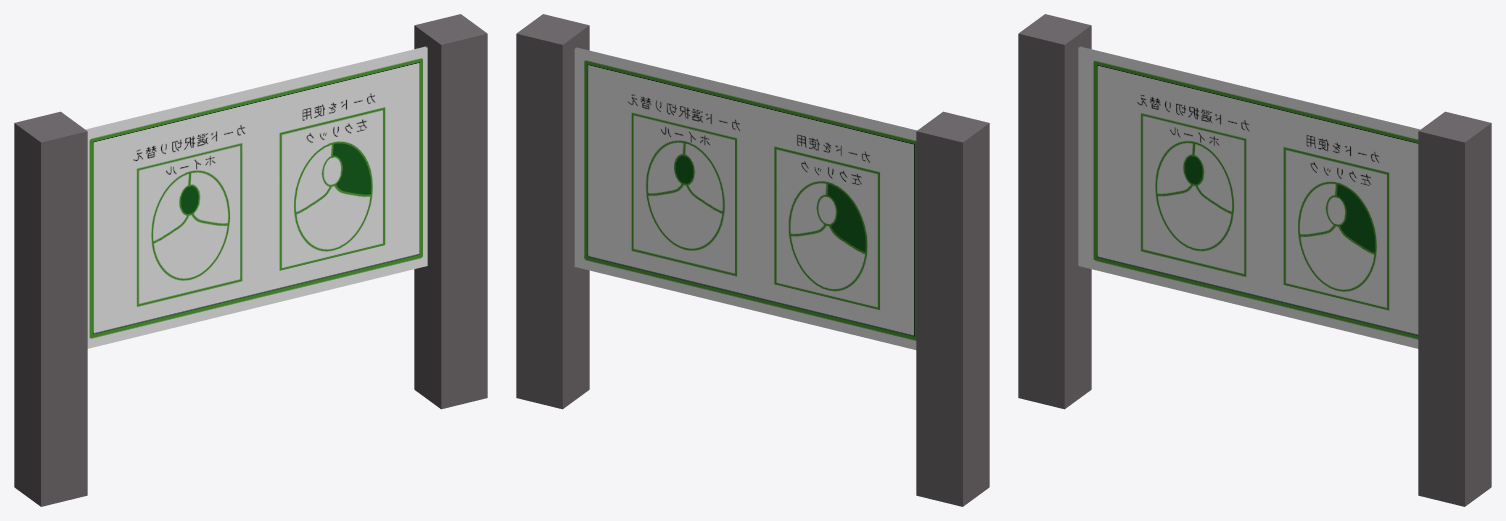
The model's file is signboard_03.obj.
3 views of the same model, side by side, from view 1: azimuth 30°, elevation 25°; view 2: azimuth 150°, elevation 25°; view 3: azimuth 330°, elevation 25° (orthographic).
Parts seen in each view (by area): view 1: signboard_03:pPlane1group1, signboard_03:group1pCube1, signboard_03:group1pCube2, signboard_03:group1pPlane2; view 2: signboard_03:group1pPlane2, signboard_03:group1pCube1, signboard_03:group1pCube2, signboard_03:pPlane1group1; view 3: signboard_03:pPlane1group1, signboard_03:group1pCube2, signboard_03:group1pCube1, signboard_03:group1pPlane2.
Part boxes in pixels (x1,y1,x2,y2): signboard_03:pPlane1group1: (87,47,427,348); signboard_03:group1pCube1: (14,111,87,506); signboard_03:group1pCube2: (414,14,487,409); signboard_03:group1pPlane2: (85,46,426,130); signboard_03:group1pPlane2: (574,48,916,349); signboard_03:group1pCube1: (916,111,989,506); signboard_03:group1pCube2: (516,14,589,409); signboard_03:pPlane1group1: (576,47,916,131); signboard_03:pPlane1group1: (1078,47,1418,348); signboard_03:group1pCube2: (1418,111,1491,506); signboard_03:group1pCube1: (1018,14,1091,409); signboard_03:group1pPlane2: (1079,46,1420,130).
Bounding box in the file's own units: 1.92 × 1.5 × 0.2.
Materials: 2 (2 with a texture image).
